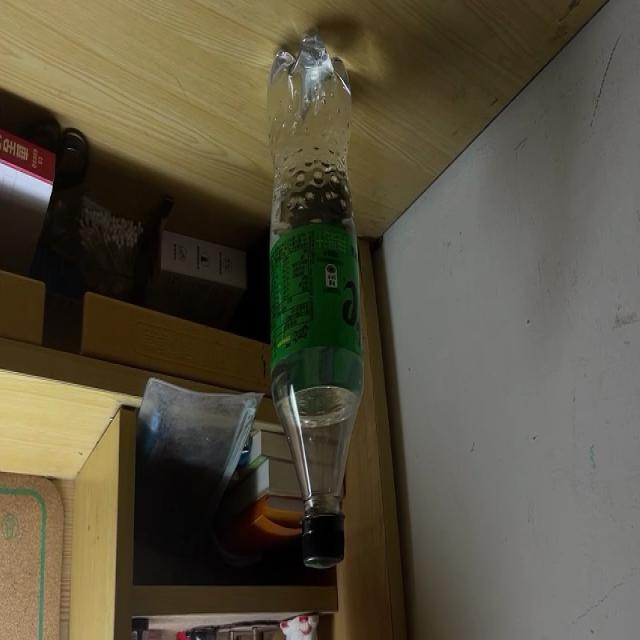Sprite: (269, 36, 364, 572)
